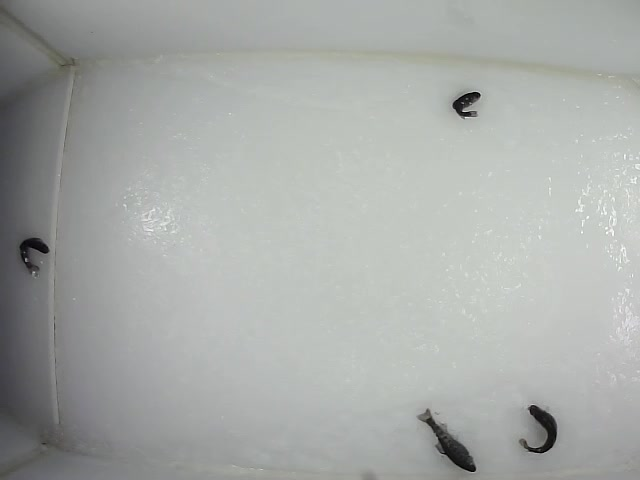fish: (415, 407, 479, 474), (516, 403, 559, 454), (18, 236, 49, 277), (450, 89, 482, 120)
